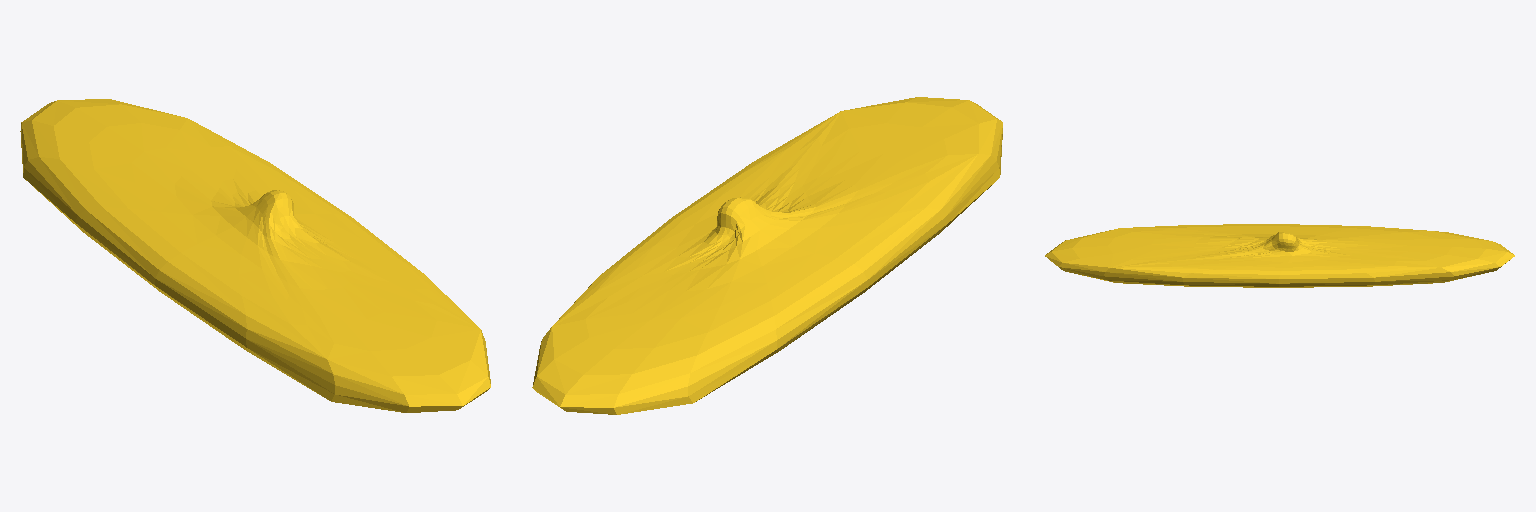
URDF robot description (blob552):

<robot name="blob552">
  <link name="random_obj_552">
    <contact>
      <lateral_friction value="1.0"/>
      <rolling_friction value="0.0"/>
      <inertia_scaling value="3.0"/>
      <contact_cfm value="0.0"/>
      <contact_erp value="1.0"/>
    </contact>
    <inertial>
      <origin rpy="0 0 0" xyz="0 0 0"/>
      <mass value="0.1165"/>
      <inertia ixx="1" ixy="0" ixz="0" iyy="1" iyz="0" izz="0"/>
    </inertial>
    <visual>
      <origin rpy="0 0 0" xyz="0 0 0"/>
      <geometry>
        <mesh filename="552.obj" scale="0.0081 0.0081 0.0081"/>
      </geometry>
      <material name="blockmat">
        <color rgba="0.99 0.83 0.20 1"/>
      </material>
    </visual>
    <collision>
      <origin rpy="0 0 0" xyz="0 0 0"/>
      <geometry>
        <mesh filename="552_coll.obj" scale="0.0081 0.0081 0.0081"/>
      </geometry>
    </collision>
  </link>
</robot>

--- What the picture shows (computed from the rendered views, not written in the file) ---
The picture shows the robot from 3 angles, left to right: view 1: azimuth 30°, elevation 25°; view 2: azimuth 150°, elevation 25°; view 3: azimuth 270°, elevation 25°; orthographic projection.
Robot: blob552 — 1 links, 0 joints (none); root link random_obj_552; default pose: every joint at zero.
Links seen in each view (by area): view 1: random_obj_552; view 2: random_obj_552; view 3: random_obj_552.
Boxes of the visible links, x1,y1,x2,y2 form: random_obj_552: (20, 99, 490, 412); random_obj_552: (532, 97, 1002, 414); random_obj_552: (1045, 224, 1514, 287).
Size in the robot's own frame: 0.0249 by 0.089 by 0.0103 metres.
Meshes: 1 distinct files referenced, 1 mesh visuals loaded (1 OBJ).
